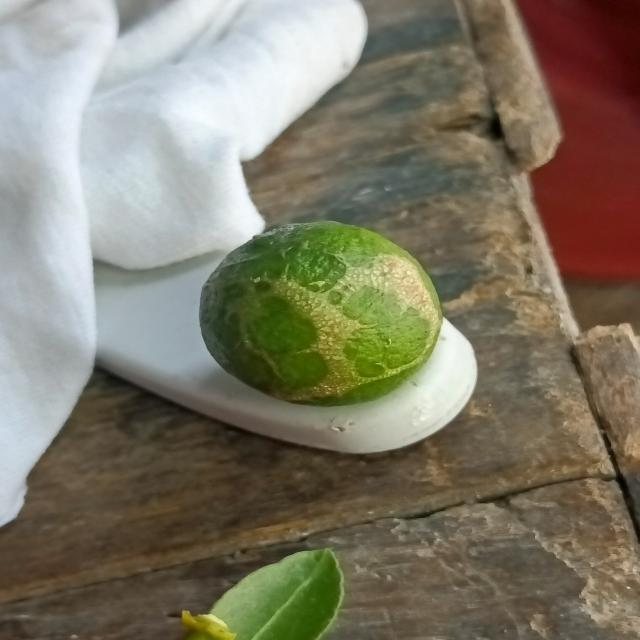thrips: (196, 215, 440, 410)
